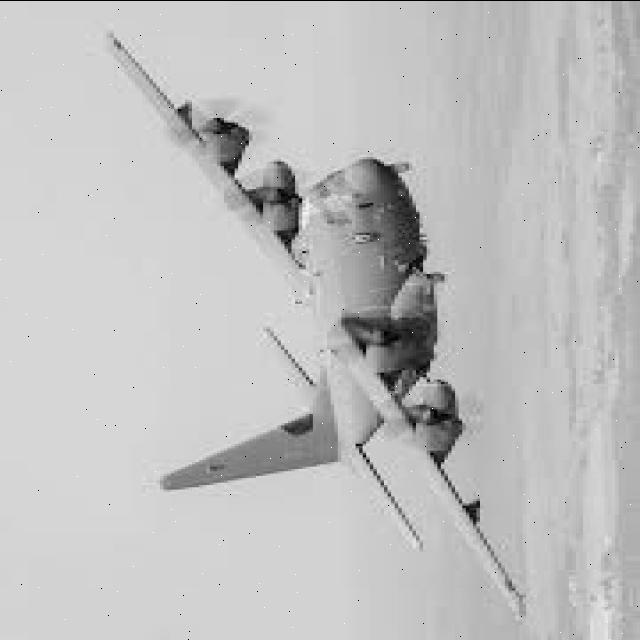C130: (61, 15, 549, 632)
